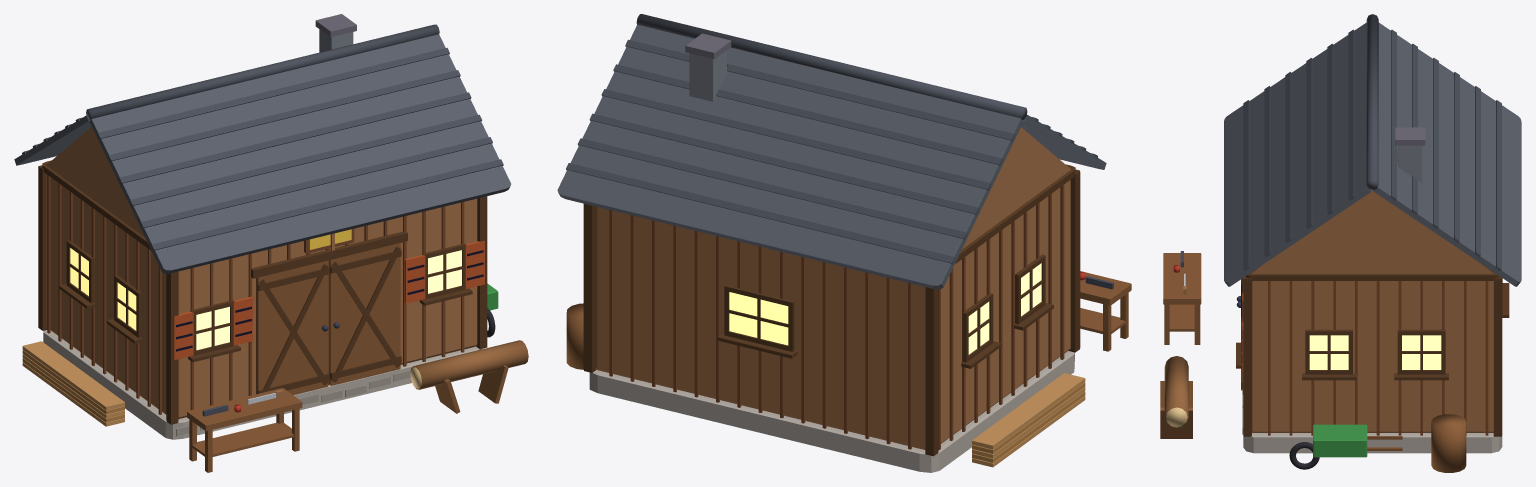
The model's file is dilna.glb.
The picture shows the model from 3 angles, left to right: view 1: azimuth 30°, elevation 25°; view 2: azimuth 150°, elevation 25°; view 3: azimuth 270°, elevation 25°; orthographic projection. The views are drawn at different scales.
Parts seen in each view (by area): view 1: dilna; view 2: dilna; view 3: dilna.
Part boxes in pixels (x1=…): dilna: x1=14, y1=14, x2=528, y2=472; dilna: x1=557, y1=14, x2=1131, y2=472; dilna: x1=1160, y1=14, x2=1521, y2=472.
Size of the model in its own units: 8.25 by 5.89 by 6.63.
2 materials, 2 textured.
